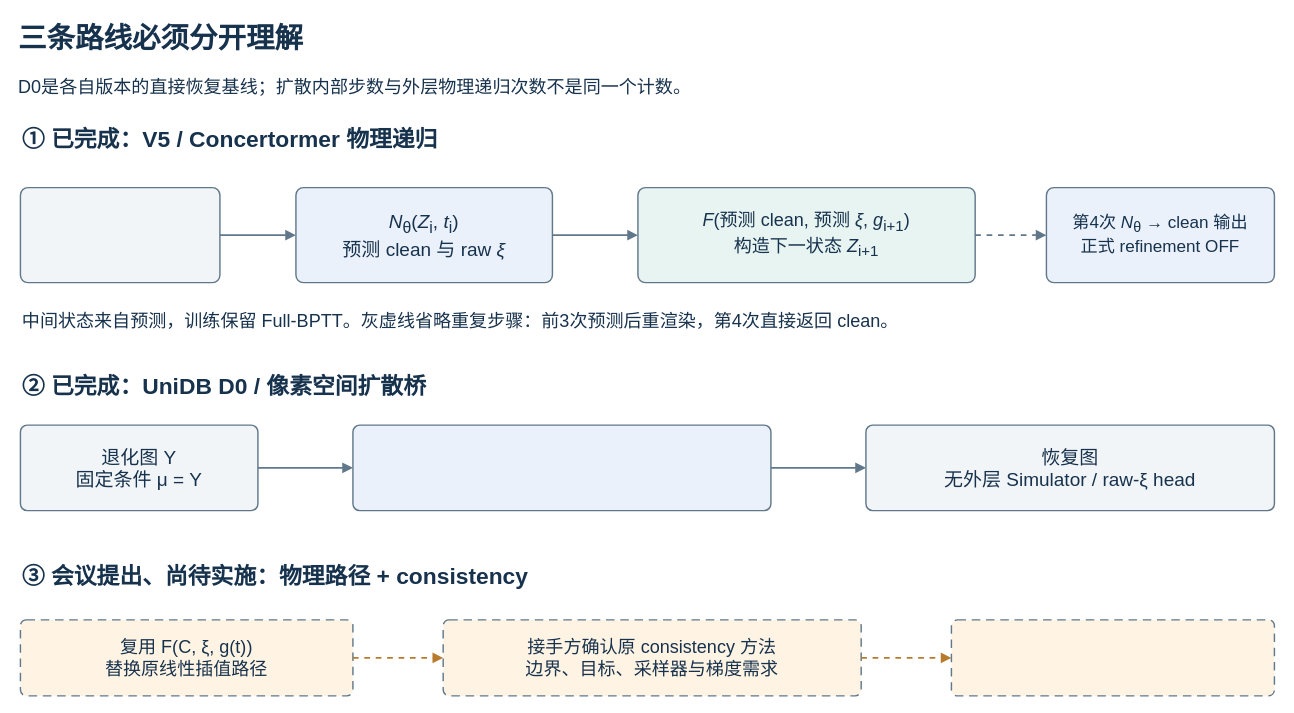
Some shapes in this 1294 by 713 pixel diagram are drawn without their labels. Here are the shapes that lost their labels. From the top down, the centre of each, then its label:
At (119,234): "原观测 Y 4 Z 0 = Y 4".
At (561,467): "原生100步 reverse SDE ConditionalUNet 预测噪声".
At (1112,657): "新实验：与匹配 D0 对比 不是已取得的性能结论".
